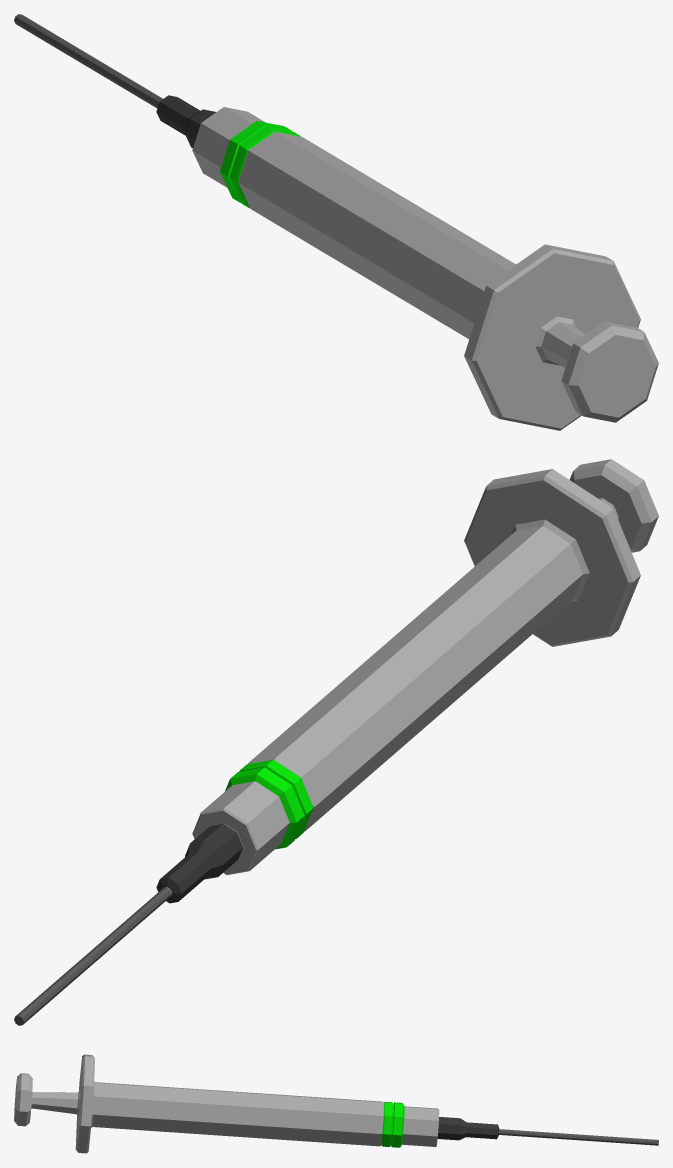
The model's file is Syringe.fbx.
The picture shows the model from 3 angles, top to bottom: view 1: azimuth 30°, elevation 25°; view 2: azimuth 150°, elevation 25°; view 3: azimuth 270°, elevation 25°; orthographic projection. The views are drawn at different scales.
Parts seen in each view (by area): view 1: Syringe; view 2: Syringe; view 3: Syringe.
Boxes of the visible parts, x1,y1,x2,y2 form: Syringe: (14, 14, 658, 430); Syringe: (14, 459, 658, 1025); Syringe: (14, 1054, 658, 1153).
Size of the model in its own units: 0.4783 by 0.4798 by 2.94.
